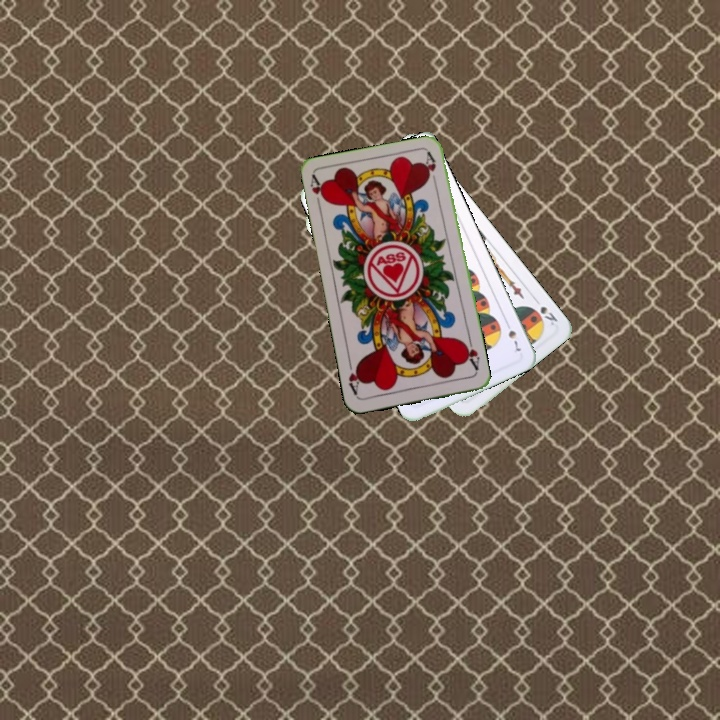HA: (459, 334, 482, 375), (306, 172, 329, 213)
S7: (502, 317, 523, 354)
SK: (530, 293, 560, 328)
